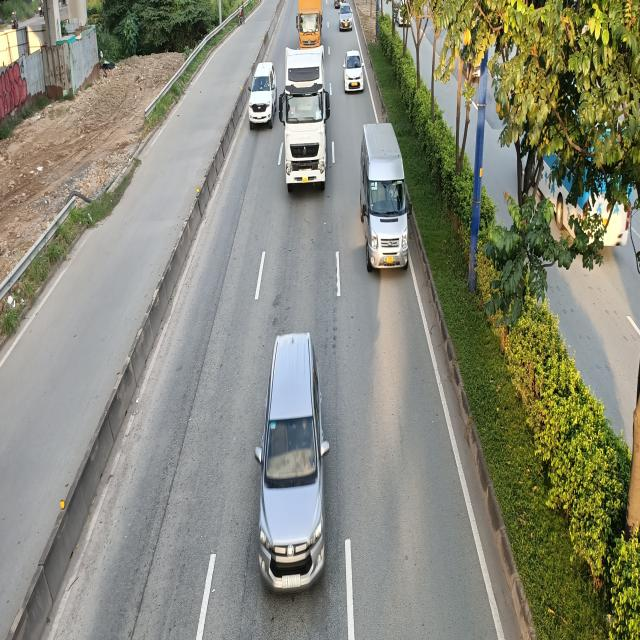car: (256, 334, 332, 594), (250, 63, 278, 129), (344, 49, 365, 94), (340, 4, 353, 32)
container: (279, 44, 330, 190)
van: (359, 125, 409, 272)
